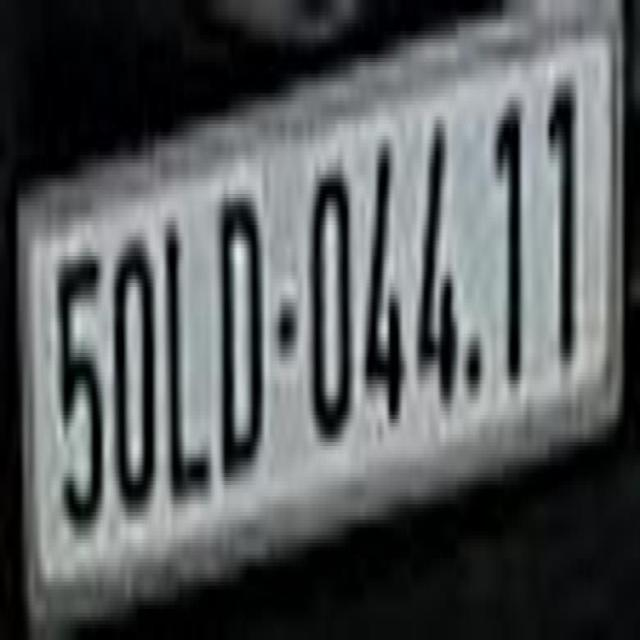0: (307, 143, 353, 454), (112, 225, 157, 516)
1: (492, 82, 527, 396), (546, 66, 581, 368)
4: (415, 104, 460, 430), (363, 120, 406, 446)
5: (56, 235, 106, 541)
D: (218, 176, 266, 494)
L: (164, 210, 213, 504)
